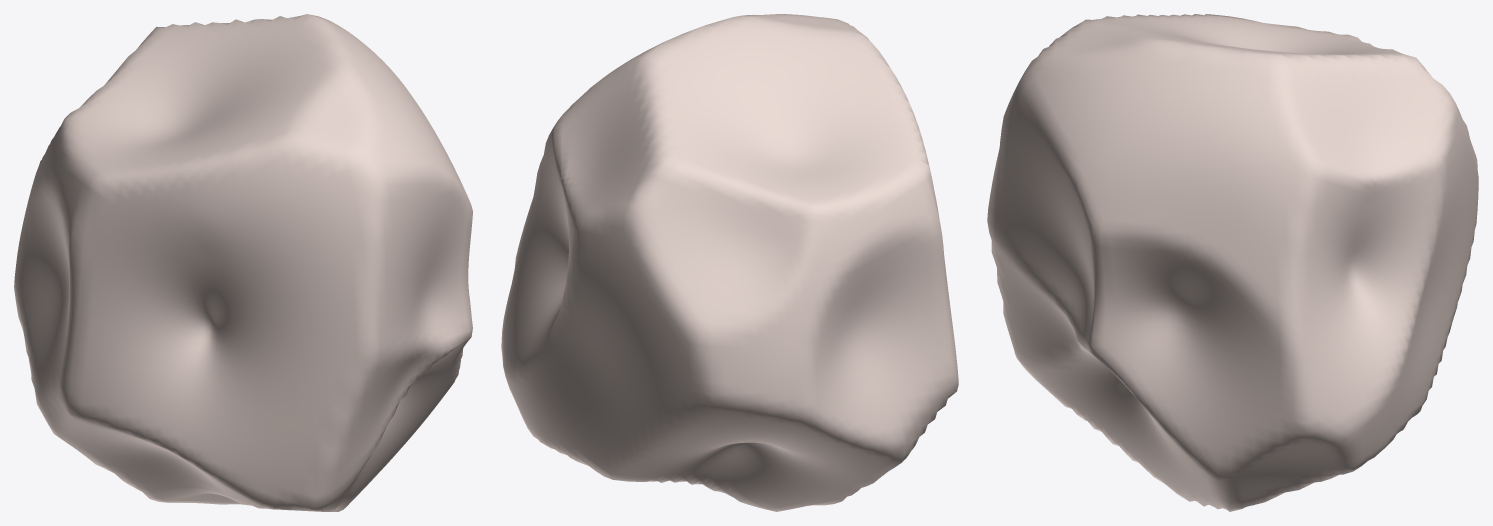
The model's file is Asteroid 1.fbx.
The picture shows the model from 3 angles, left to right: view 1: azimuth 30°, elevation 25°; view 2: azimuth 150°, elevation 25°; view 3: azimuth 270°, elevation 25°; orthographic projection. The views are drawn at different scales.
Visible parts, largest first — view 1: Cube; view 2: Cube; view 3: Cube.
Part boxes in pixels (x1,y1,x2,y2): Cube: (14,14,472,511); Cube: (501,14,958,511); Cube: (987,14,1478,511).
Size of the model in its own units: 118 by 125 by 122.
